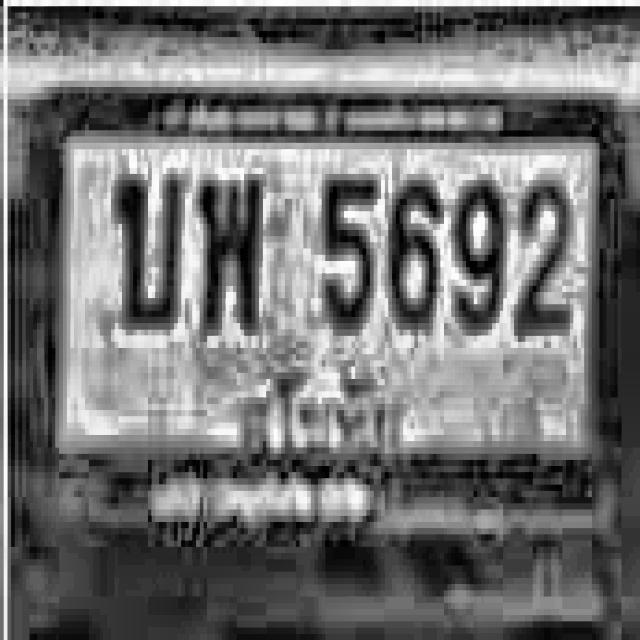license-plate: (30, 73, 627, 557)
